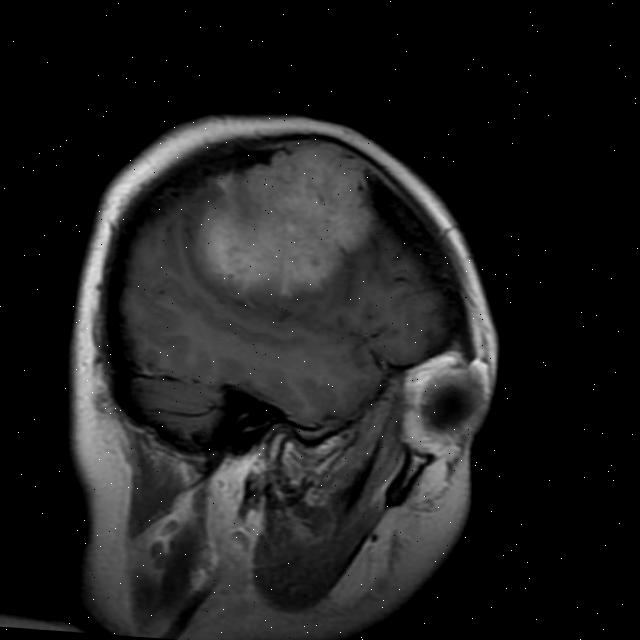Meningioma: (188, 133, 383, 306)
